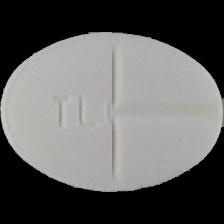63629-3910: (0, 0, 224, 224)
